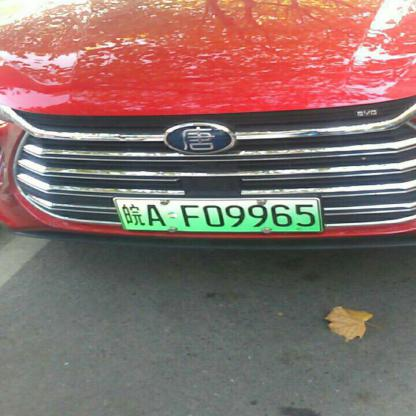lp: (114, 197, 322, 231)
